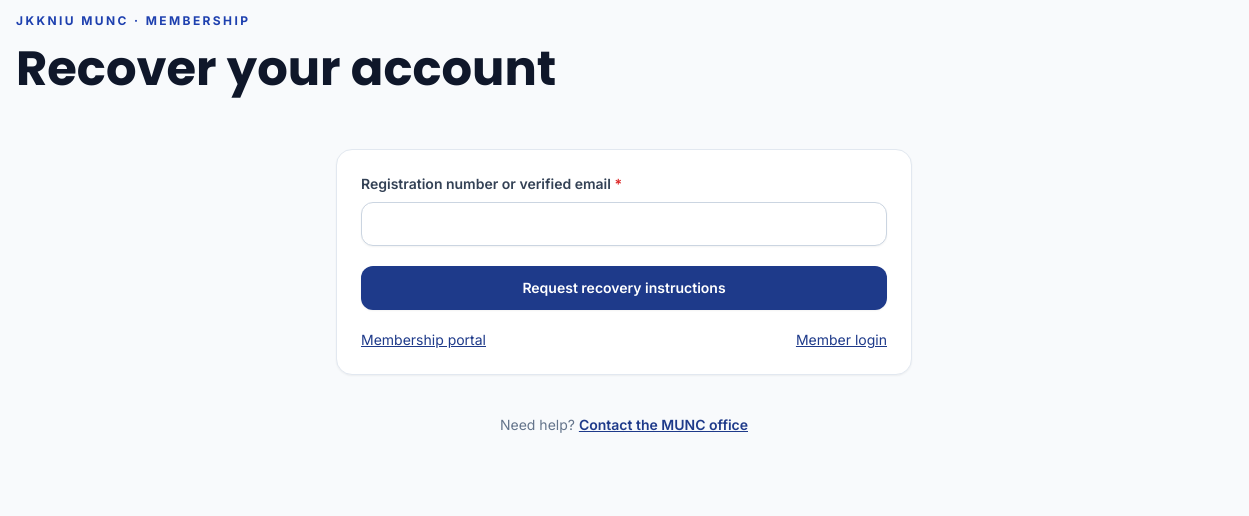
Scenario: membership portal › uses a generic password recovery acknowledgement
The image size is (1249, 516).
Type "unknown@example.invalid" into the field labelled "Registration number or verified email *" at (624,224), box [361, 202, 887, 246]
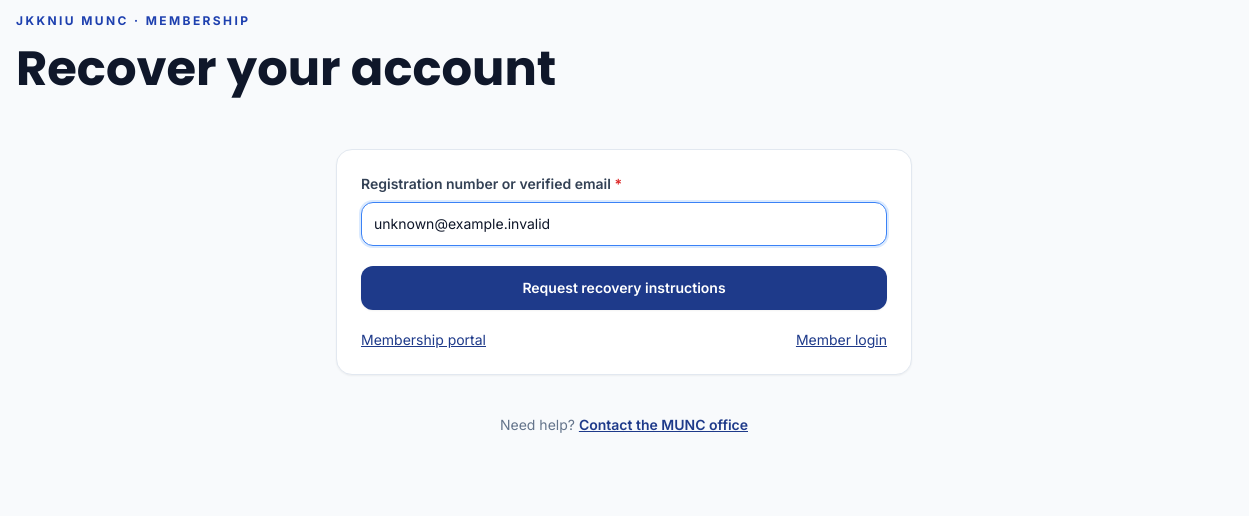
Click the button "Request recovery instructions" at (624,288), box [361, 266, 887, 310]
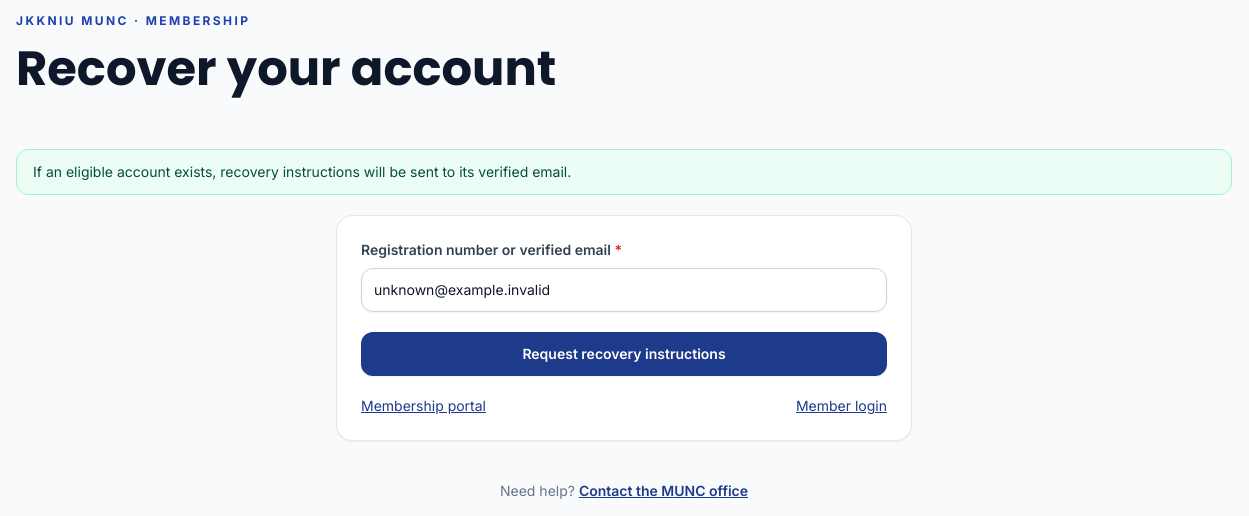
Expected: the text "If an eligible account exists" is shown, [33, 163, 571, 180]
